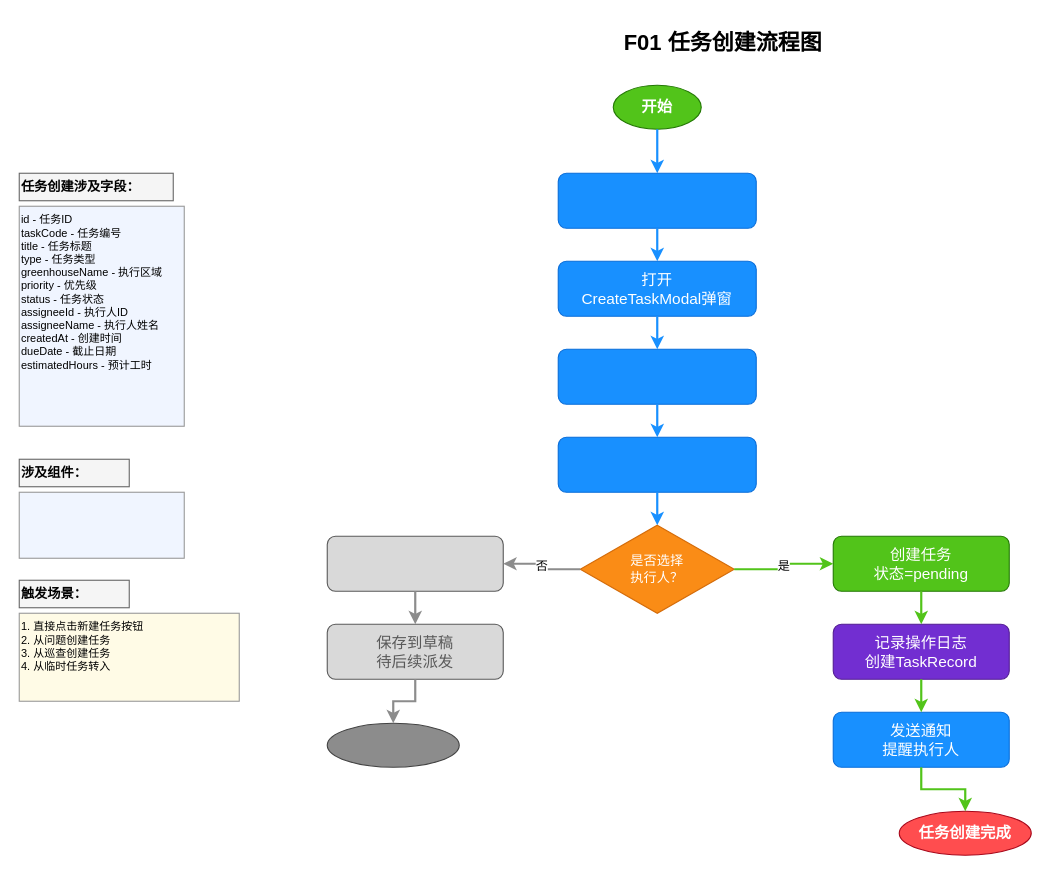
Some shapes in this 1051 by 875 pixel diagram are drawn without their labels. The box of each missing label's shape, as (x1, y1, x2, y2) in pixels:
CreateTaskModal TaskTab useTasks: (18, 491, 184, 558)
任务保存草稿: (326, 722, 459, 767)
创建任务 状态=draft: (326, 535, 503, 591)
填写任务信息 标题/类型/区域/日期/工时/优先级: (557, 348, 756, 404)
数据校验 title非空/greenhouse非空: (557, 436, 756, 492)
点击 【新建任务】按钮: (557, 172, 756, 228)
